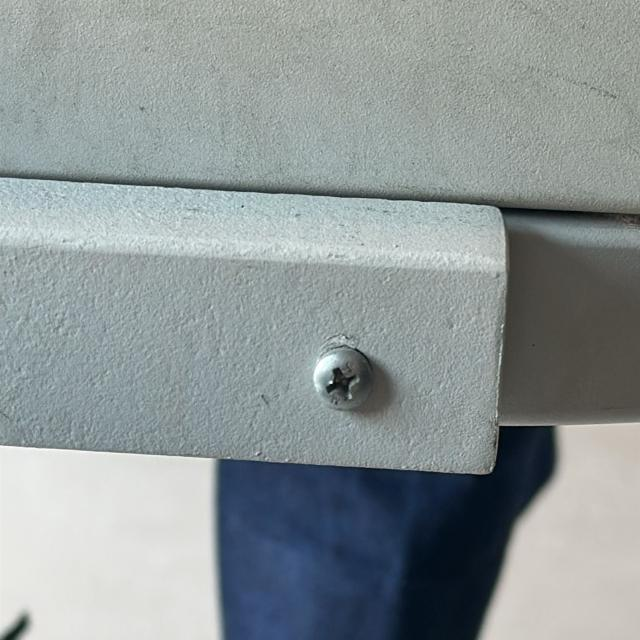Phillips: (308, 347, 371, 414)
